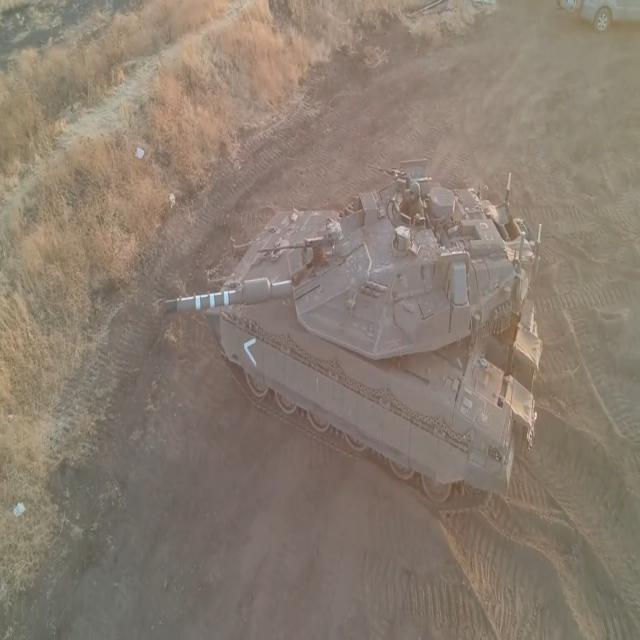tank: (162, 147, 549, 533)
